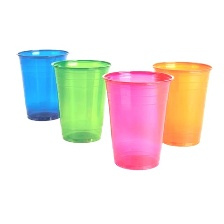glass: (101, 66, 175, 175), (45, 55, 117, 148), (148, 54, 217, 148), (14, 42, 72, 130)
